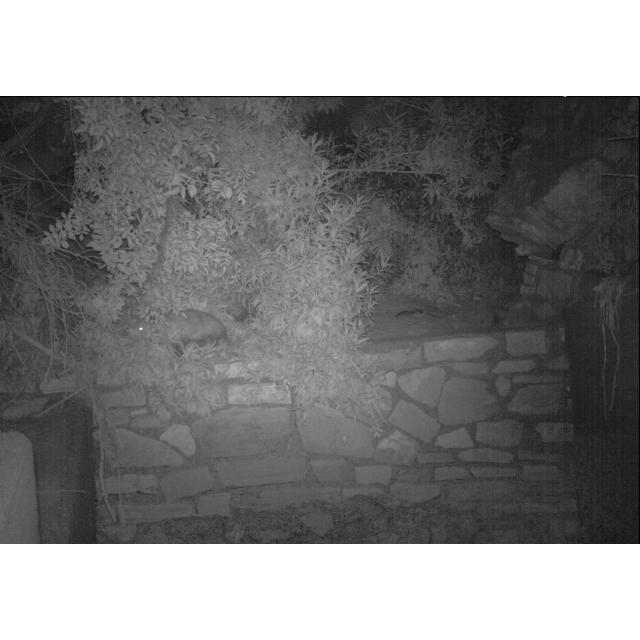animals: (129, 303, 233, 357)
